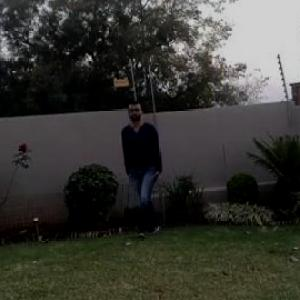follow: (122, 101, 168, 242)
